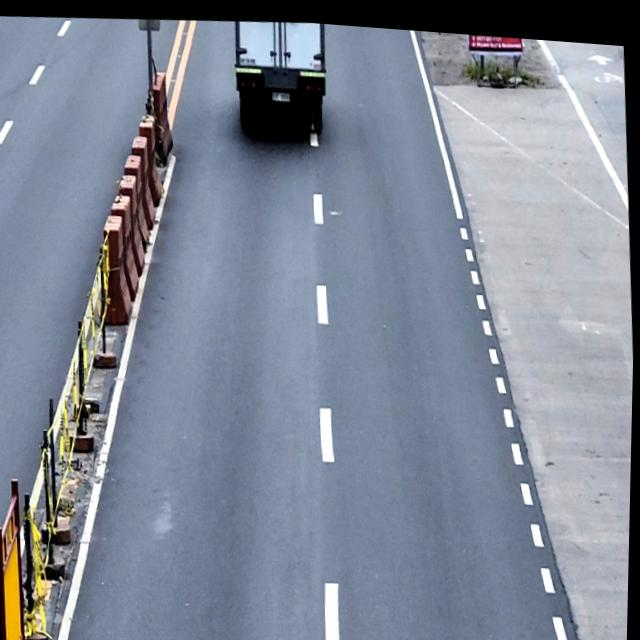License-Plate: (271, 87, 291, 99)
Truck: (230, 14, 332, 131)
